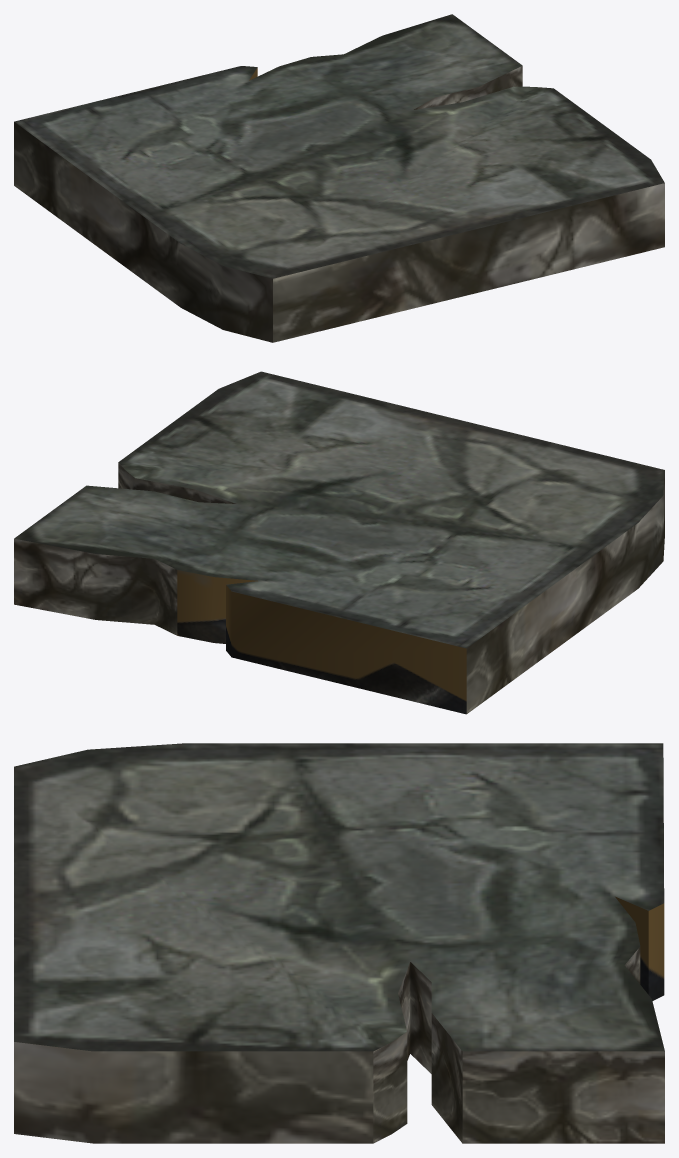
Rendered from Z_dizhuan002.fbx.
The picture shows the model from 3 angles, top to bottom: view 1: azimuth 30°, elevation 25°; view 2: azimuth 150°, elevation 25°; view 3: azimuth 270°, elevation 25°; orthographic projection. The views are drawn at different scales.
Parts seen in each view (by area): view 1: Z_dizhuan002; view 2: Z_dizhuan002; view 3: Z_dizhuan002.
Part boxes in pixels (x1,y1,x2,y2): Z_dizhuan002: (14,14,664,342); Z_dizhuan002: (14,371,664,714); Z_dizhuan002: (14,743,664,1143).
Size of the model in its own units: 142 by 19.8 by 127.
